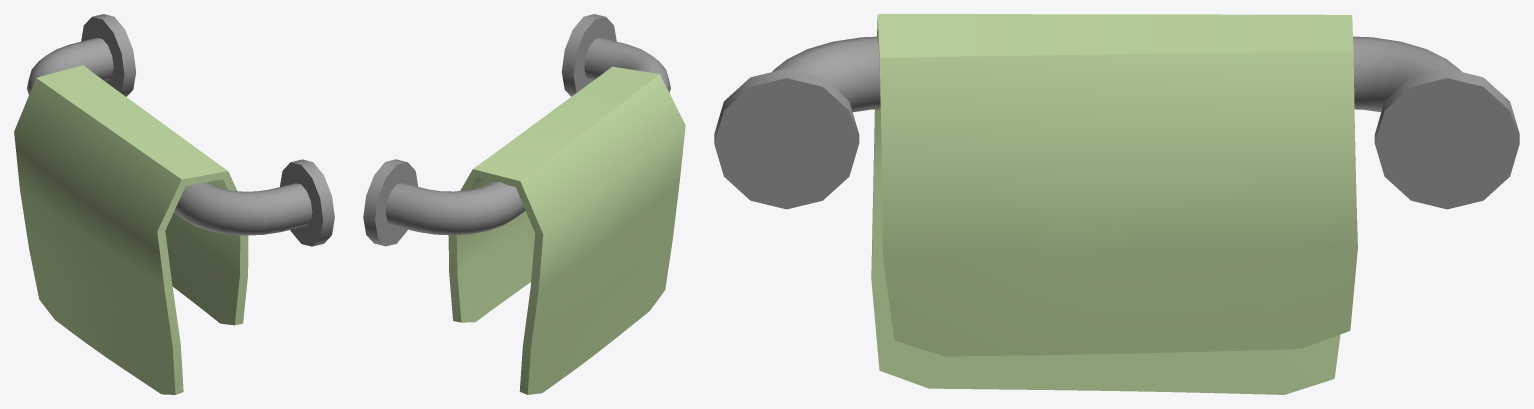
File: Towel Holder.fbx
3 renders of one model, left to right at view 1: azimuth 30°, elevation 25°; view 2: azimuth 150°, elevation 25°; view 3: azimuth 270°, elevation 25°, orthographic. The views are drawn at different scales.
Visible parts, largest first — view 1: Towel Holder; view 2: Towel Holder; view 3: Towel Holder.
Part boxes in pixels (bbox=[...]): Towel Holder: bbox=[14, 14, 334, 394]; Towel Holder: bbox=[363, 14, 685, 394]; Towel Holder: bbox=[714, 14, 1519, 394].
Bounding box in the file's own units: 0.1364 × 0.4412 × 0.2419.
